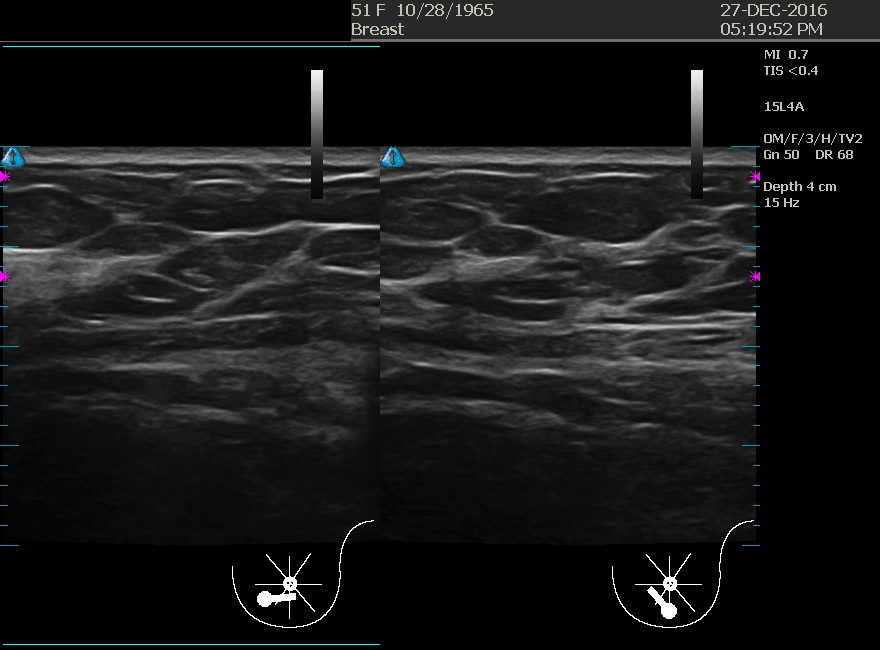BIRADS_3: (390, 213, 590, 414), (32, 210, 232, 410)
